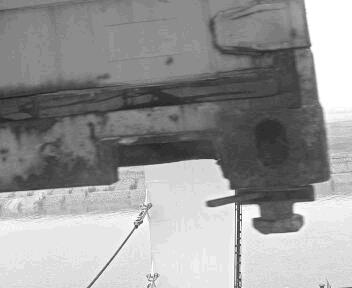twist_lock_1: (290, 116, 318, 143)
